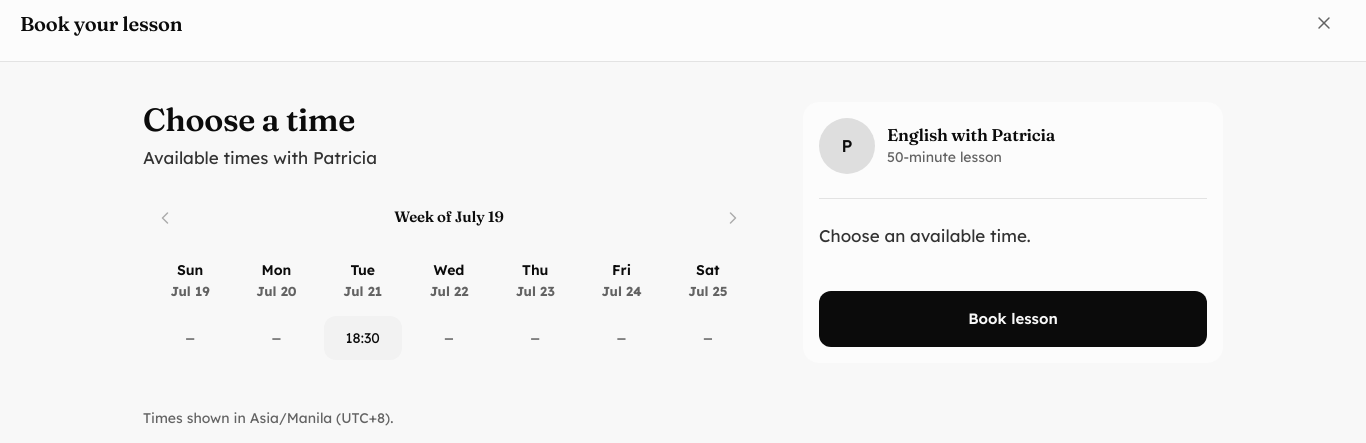
Test: BookingScreen › guides an empty submission without disabling the primary action
Click the button "Book lesson" at (1013, 319), box [819,291,1207,347]
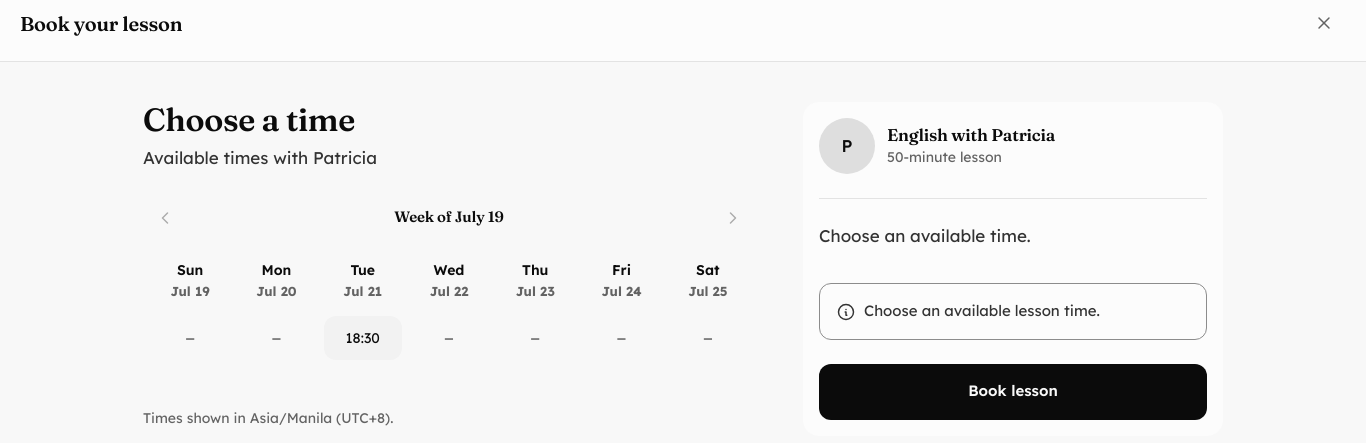
Result: the text "Choose an available lesson time." is shown at [864,300,1100,322]
